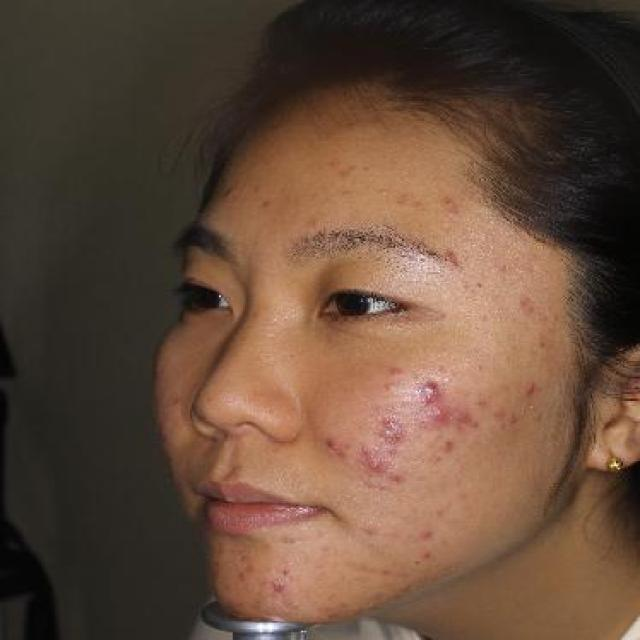dark spot: (370, 410, 409, 448), (322, 432, 344, 458)
papules: (411, 374, 445, 406), (419, 402, 454, 431), (265, 575, 289, 597), (524, 380, 539, 397)
pustules: (356, 451, 395, 475), (374, 380, 398, 394)
